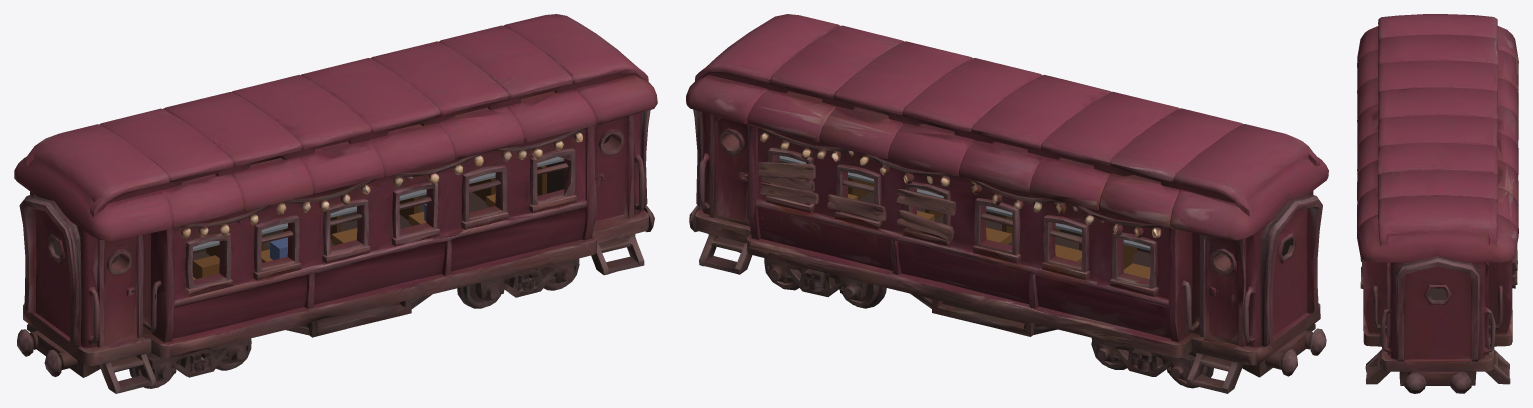
Rendered from train_coach_d.glb.
3 views of the same model, side by side, from view 1: azimuth 30°, elevation 25°; view 2: azimuth 150°, elevation 25°; view 3: azimuth 270°, elevation 25° (orthographic). The views are drawn at different scales.
Parts seen in each view (by area): view 1: body, door_end_l, wheel_5; view 2: body, door_end_l, wheel_6; view 3: body, door_end_r.
Boxes of the visible parts, left/top/right/bottom form: body: left=14, top=14, right=657, bottom=393; door_end_l: left=38, top=210, right=71, bottom=342; wheel_5: left=457, top=280, right=509, bottom=308; body: left=686, top=14, right=1328, bottom=393; door_end_l: left=1272, top=208, right=1320, bottom=336; wheel_6: left=834, top=279, right=886, bottom=308; body: left=1357, top=14, right=1518, bottom=393; door_end_r: left=1402, top=274, right=1466, bottom=361.
Bounding box in the file's own units: 8 × 2.9 × 2.27.
Materials: 9 (4 with a texture image).
